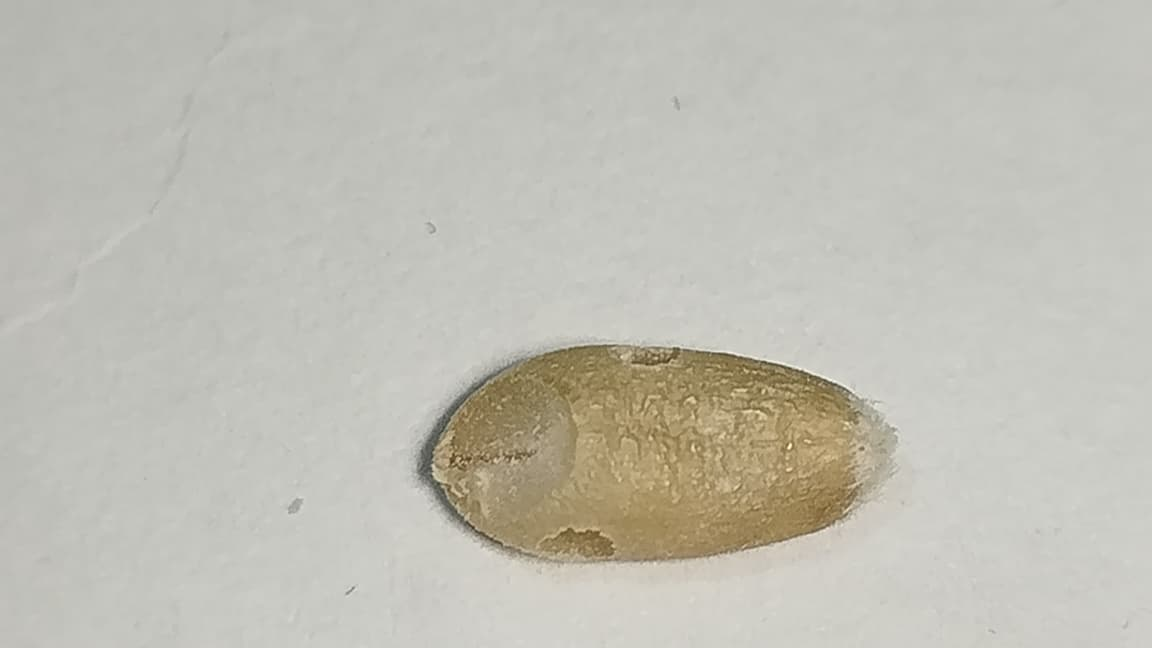damage: (419, 336, 900, 568)
insectdamage: (538, 527, 615, 559)
